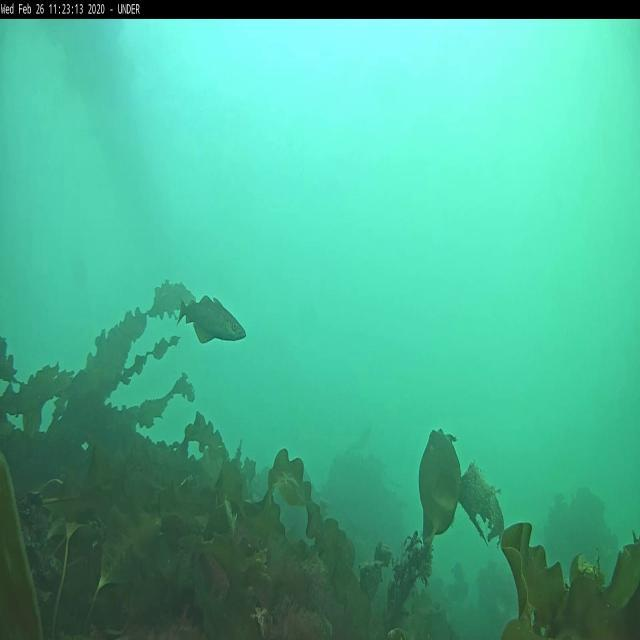fish: (177, 299, 246, 342)
